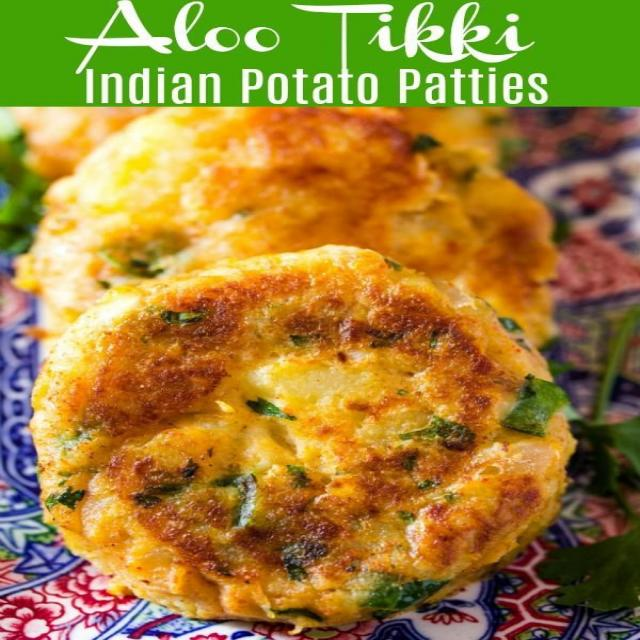Aloo Tikki: (31, 249, 574, 622), (22, 105, 564, 348)
